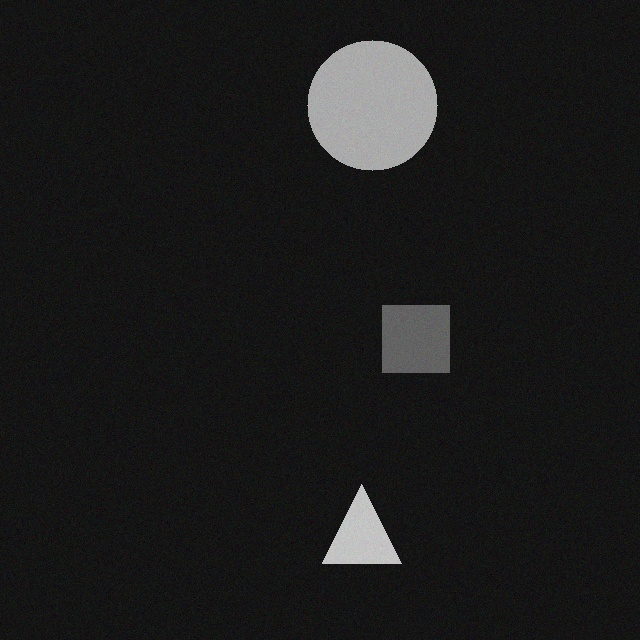circle: (302, 28, 432, 158)
square: (377, 293, 444, 360)
triangle: (317, 472, 396, 551)
